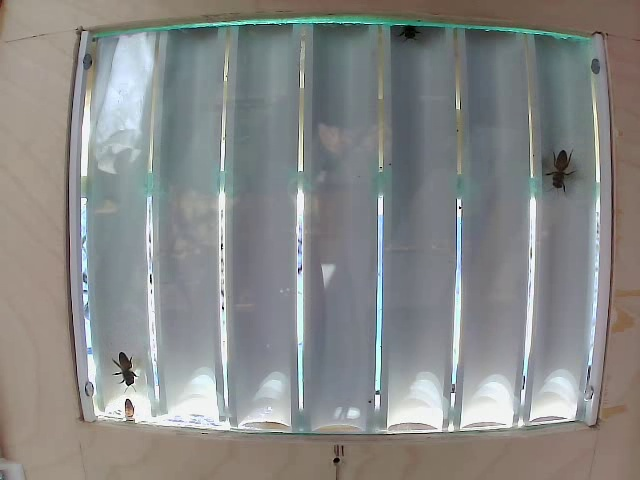bee: (543, 155, 585, 207), (114, 347, 151, 401)
